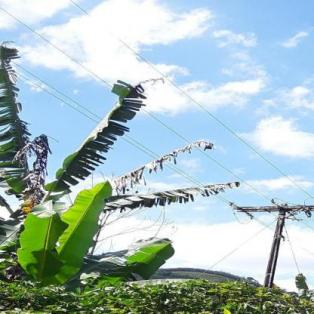Poste: (256, 201, 300, 285)
